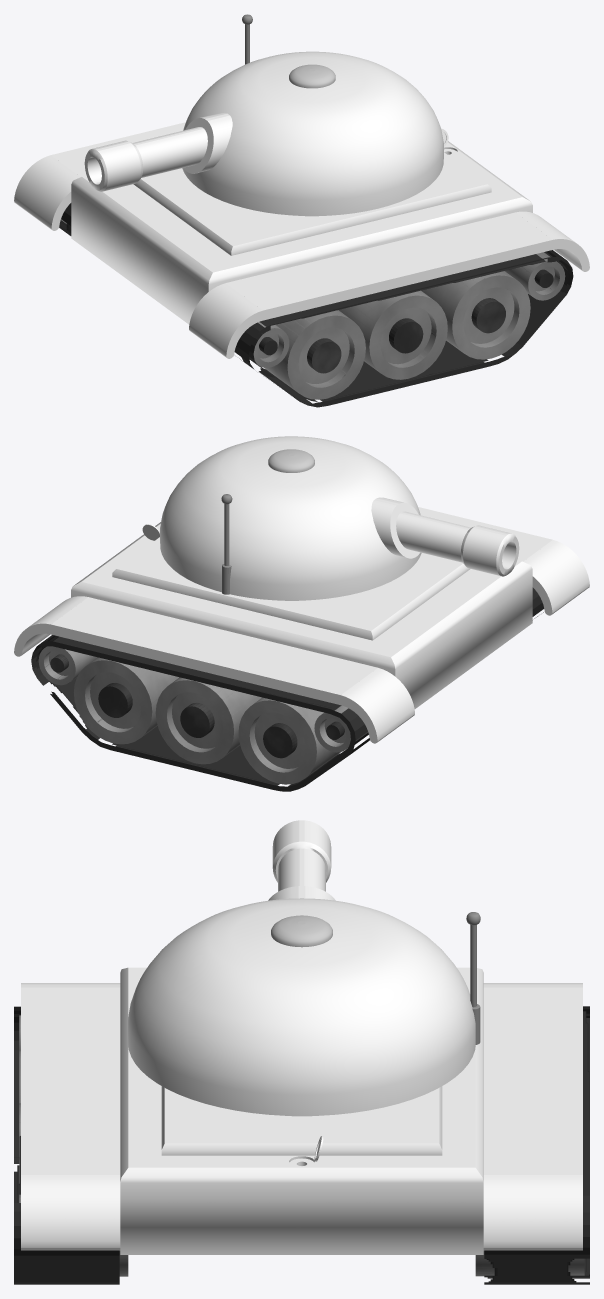
File: tank4.fbx
The picture shows the model from 3 angles, top to bottom: view 1: azimuth 30°, elevation 25°; view 2: azimuth 150°, elevation 25°; view 3: azimuth 270°, elevation 25°; orthographic projection. The views are drawn at different scales.
Visible parts, largest first — view 1: Tank Shell, Head Combined, Wheel, Treads, Head Latch; view 2: Tank Shell, Head Combined, Wheel, Treads, Head Latch, Antenna; view 3: Tank Shell, Head Combined, Treads, Head Latch, Wheel, Antenna.
Boxes of the visible parts, left/top/right/bottom form: Tank Shell: left=14, top=122, right=589, bottom=358; Head Combined: left=84, top=51, right=443, bottom=216; Wheel: left=60, top=219, right=565, bottom=399; Treads: left=59, top=203, right=573, bottom=407; Head Latch: left=289, top=64, right=335, bottom=88; Tank Shell: left=14, top=507, right=589, bottom=743; Head Combined: left=160, top=436, right=519, bottom=600; Wheel: left=38, top=646, right=368, bottom=784; Treads: left=31, top=587, right=544, bottom=791; Head Latch: left=268, top=449, right=314, bottom=472; Antenna: left=221, top=494, right=232, bottom=594; Tank Shell: left=21, top=967, right=582, bottom=1254; Head Combined: left=128, top=820, right=475, bottom=1116; Treads: left=14, top=1006, right=589, bottom=1284; Head Latch: left=271, top=915, right=332, bottom=947; Wheel: left=19, top=1015, right=584, bottom=1276; Antenna: left=466, top=912, right=480, bottom=1044.
Bounding box in the file's own units: 507 × 299 × 491.
